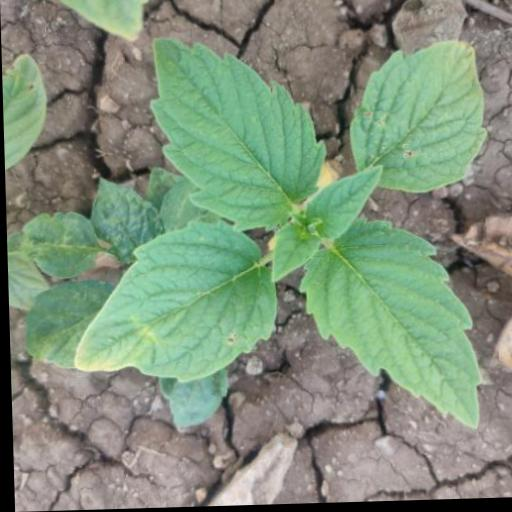crop: (1, 31, 496, 444)
